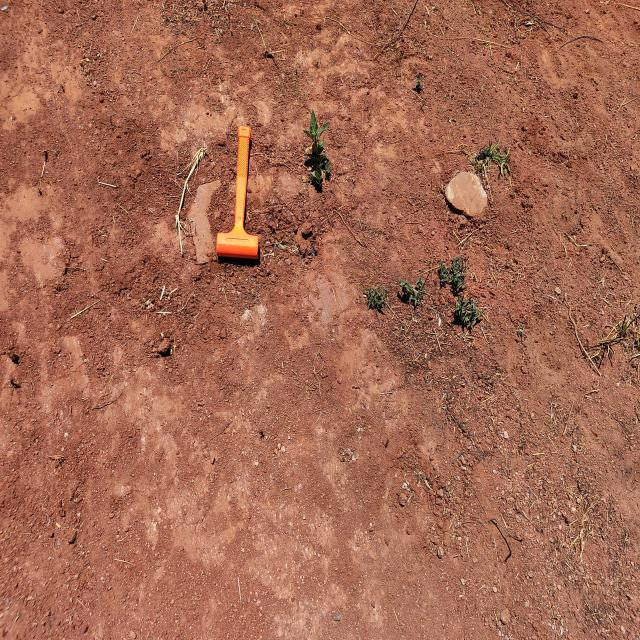Orange_hammer: (216, 124, 260, 260)
